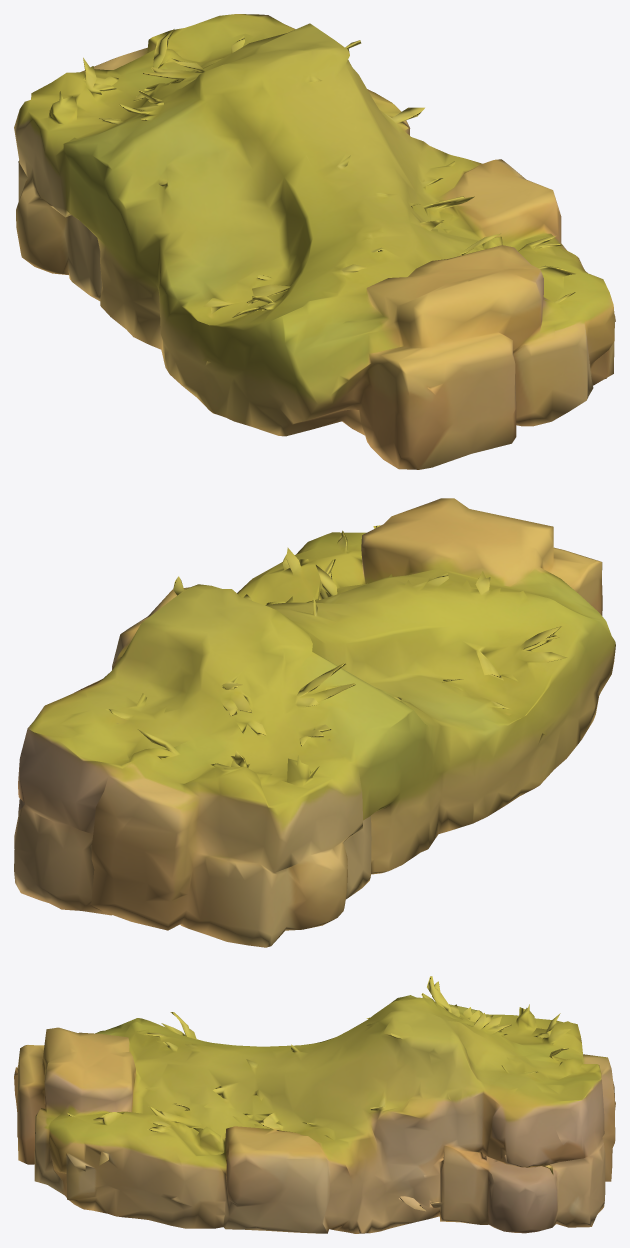
File: textures.glb
3 renders of one model, top to bottom at view 1: azimuth 30°, elevation 25°; view 2: azimuth 150°, elevation 25°; view 3: azimuth 270°, elevation 25°, orthographic. The views are drawn at different scales.
Visible parts, largest first — view 1: tripo_node_8e35f5d6-0846-49ce-8a71-b0a4f7c4c730; view 2: tripo_node_8e35f5d6-0846-49ce-8a71-b0a4f7c4c730; view 3: tripo_node_8e35f5d6-0846-49ce-8a71-b0a4f7c4c730.
Part boxes in pixels (left/top/right/bottom): tripo_node_8e35f5d6-0846-49ce-8a71-b0a4f7c4c730: left=14, top=14, right=615, bottom=469; tripo_node_8e35f5d6-0846-49ce-8a71-b0a4f7c4c730: left=14, top=498, right=615, bottom=947; tripo_node_8e35f5d6-0846-49ce-8a71-b0a4f7c4c730: left=14, top=976, right=615, bottom=1233.
Size of the model in its own units: 0.5611 by 0.3356 by 1.
Materials: 1 (1 with a texture image).
